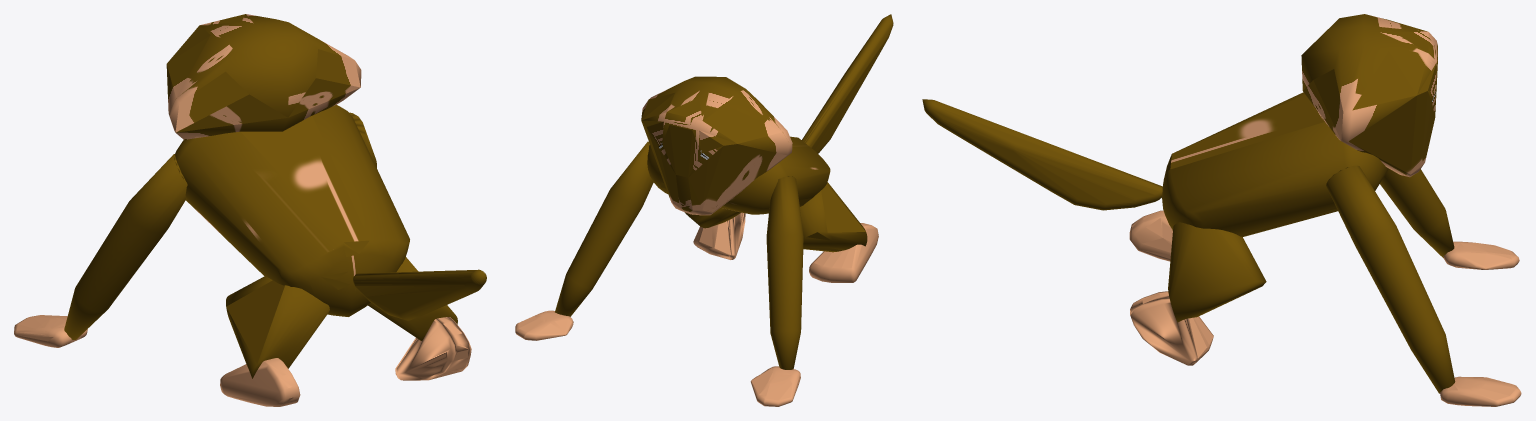
File: NaturalPosMonkeColl.fbx
3 renders of one model, left to right at view 1: azimuth 30°, elevation 25°; view 2: azimuth 150°, elevation 25°; view 3: azimuth 270°, elevation 25°, orthographic. The views are drawn at different scales.
Visible parts, largest first — view 1: Torso, Suzanne, LeftArm, LeftLeg, Tail, RightFoot, LeftFoot, LeftHand, RightLeg; view 2: Suzanne, LeftArm, RightArm, Torso, Tail, LeftLeg, LeftFoot, RightFoot, LeftHand, RightHand, RightLeg; view 3: Torso, Suzanne, RightArm, Tail, RightLeg, RightFoot, LeftArm, RightHand, LeftHand, LeftFoot.
Boxes of the visible parts, x1,y1,x2,y2 form: Torso: (174, 105, 409, 316); Suzanne: (166, 14, 361, 140); LeftArm: (64, 154, 187, 339); LeftLeg: (226, 276, 329, 378); Tail: (353, 269, 486, 320); RightFoot: (395, 317, 471, 380); LeftFoot: (220, 358, 300, 406); LeftHand: (14, 315, 87, 347); RightLeg: (368, 257, 457, 340); Suzanne: (641, 76, 792, 215); LeftArm: (766, 176, 803, 369); RightArm: (555, 141, 653, 316); Torso: (647, 136, 830, 214); Tail: (802, 14, 893, 153); LeftLeg: (800, 182, 867, 252); LeftFoot: (809, 223, 878, 282); RightFoot: (693, 212, 745, 259); LeftHand: (750, 366, 800, 406); RightHand: (515, 310, 573, 340); RightLeg: (684, 208, 741, 228); Torso: (1162, 92, 1388, 236); Suzanne: (1301, 14, 1437, 177); RightArm: (1326, 165, 1455, 393); Tail: (922, 99, 1162, 210); RightLeg: (1168, 222, 1266, 322); RightFoot: (1130, 291, 1213, 365); LeftArm: (1380, 169, 1454, 257); RightHand: (1440, 376, 1521, 406); LeftHand: (1443, 241, 1519, 269); LeftFoot: (1129, 210, 1172, 261).
Bounding box in the file's own units: 300 × 260 × 456.
Materials: 11 (11 with a texture image).
